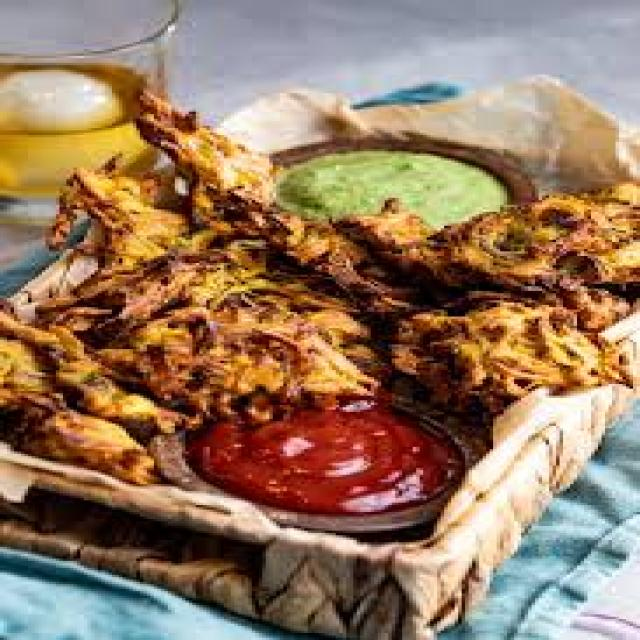BAJI: (38, 96, 637, 426)
